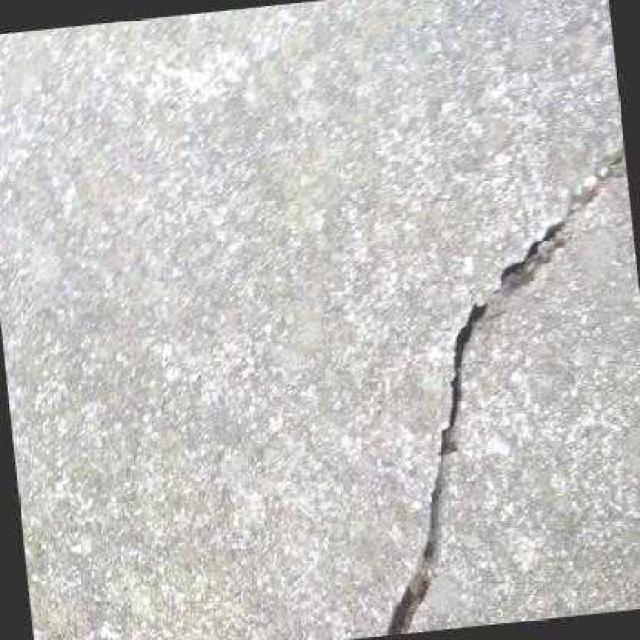D00: (382, 136, 624, 635)
